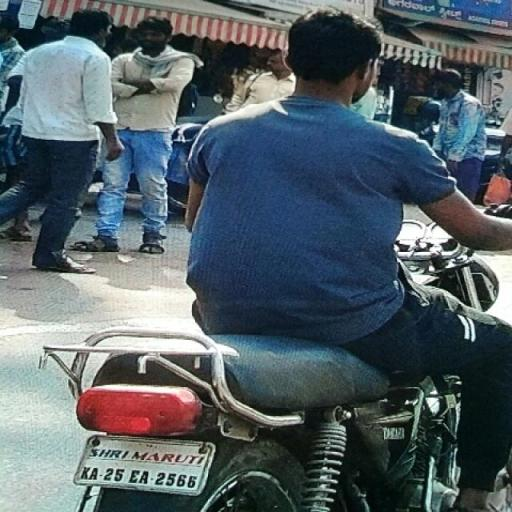bike: (33, 9, 511, 512)
numberplate: (76, 431, 214, 497)
withouthelmet: (284, 10, 379, 92)
